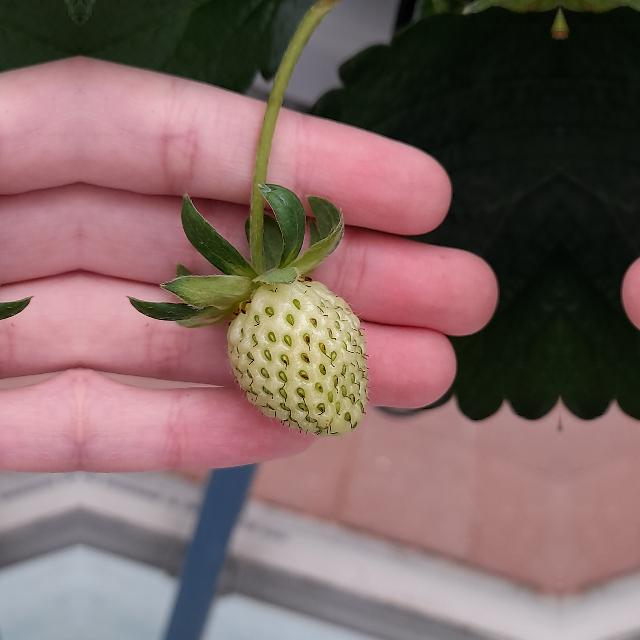Health_25: (227, 280, 367, 436)
